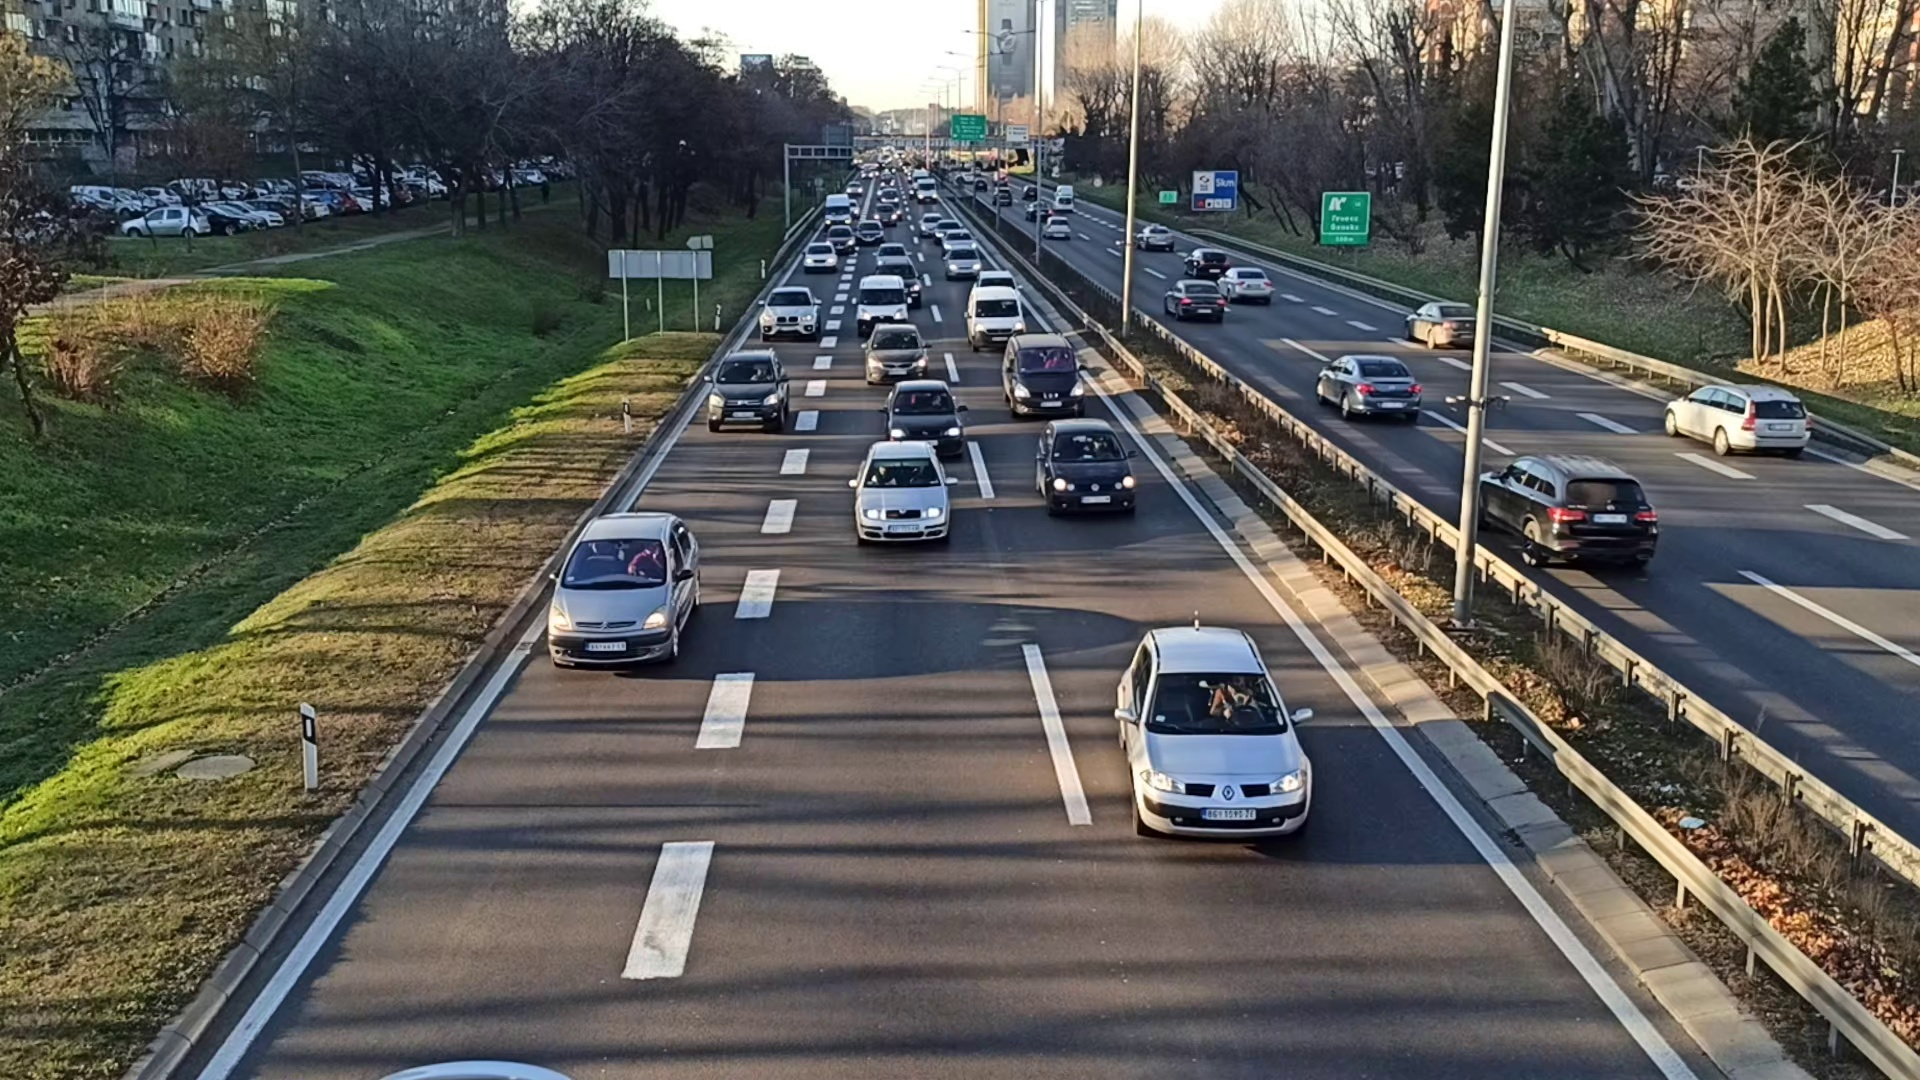car: (1113, 622, 1313, 857), (543, 512, 705, 673), (1473, 450, 1659, 584), (1667, 381, 1812, 456), (1036, 422, 1135, 524), (855, 446, 949, 546), (1317, 353, 1422, 425), (1000, 336, 1087, 418), (707, 349, 790, 429), (887, 381, 960, 454), (864, 319, 930, 388), (1404, 299, 1484, 351), (968, 285, 1025, 348), (760, 287, 820, 345), (858, 280, 905, 334), (1164, 280, 1225, 320), (1216, 265, 1270, 301), (1184, 247, 1228, 274), (804, 243, 840, 270), (944, 251, 977, 277), (877, 244, 905, 260)
